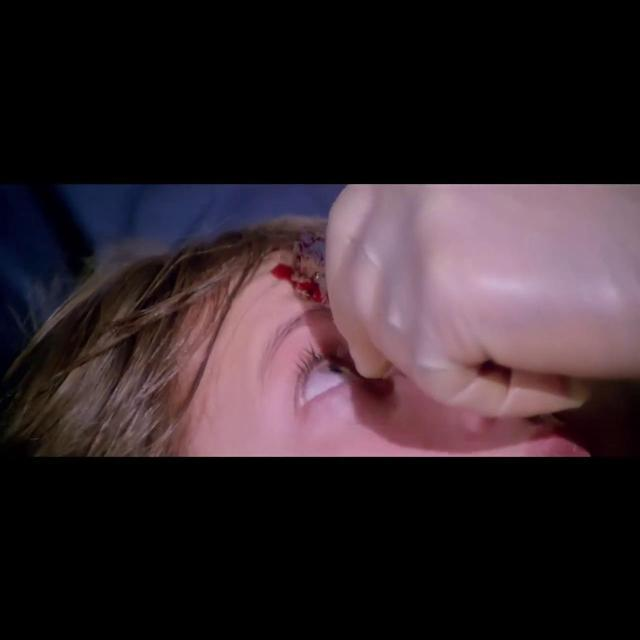blood: (271, 228, 329, 304)
